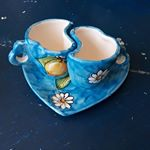cups: (66, 22, 133, 91), (7, 16, 74, 85)
